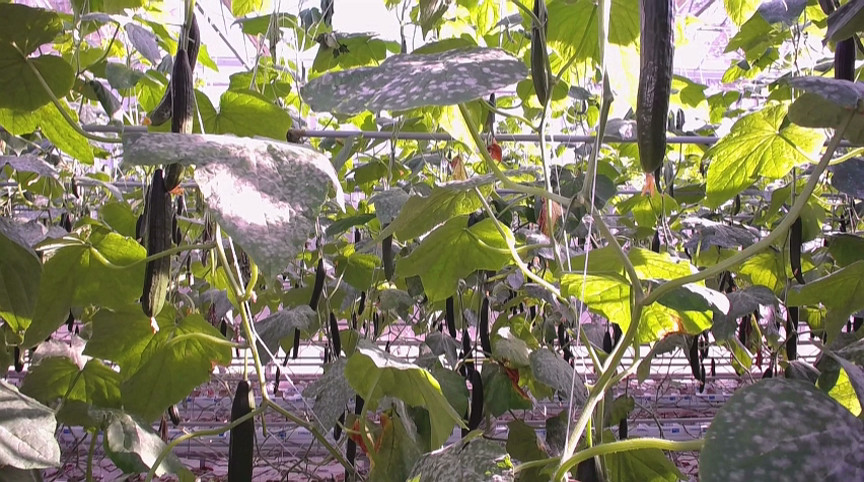cucumber: (636, 1, 675, 175), (143, 169, 172, 316), (164, 49, 194, 190), (227, 381, 255, 482), (531, 3, 550, 106), (789, 216, 805, 287), (834, 36, 856, 82), (469, 370, 484, 432), (310, 259, 327, 310), (480, 297, 492, 360), (442, 294, 458, 338)
